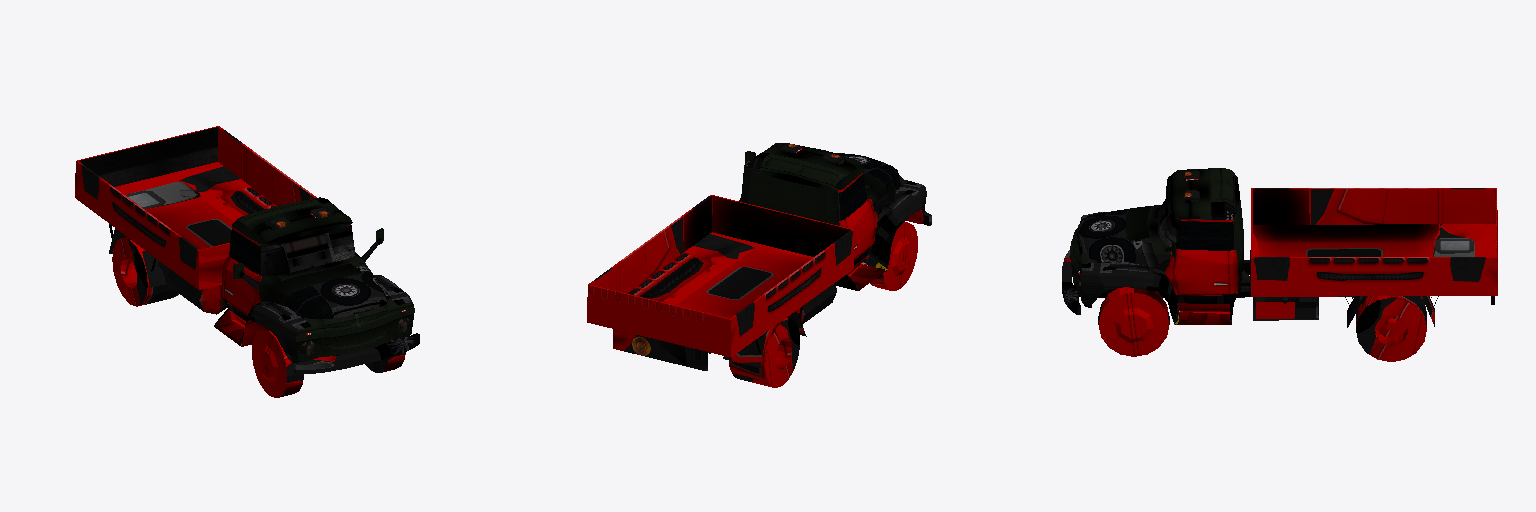
3 views of the same model, side by side, from view 1: azimuth 30°, elevation 25°; view 2: azimuth 150°, elevation 25°; view 3: azimuth 270°, elevation 25° (orthographic).
Parts seen in each view (by area): view 1: SmallTruck_1:SmallTruck_Tyre_F_R1; view 2: SmallTruck_1:SmallTruck_Tyre_F_R1; view 3: SmallTruck_1:SmallTruck_Tyre_F_R1.
Boxes of the visible parts, x1=… form: SmallTruck_1:SmallTruck_Tyre_F_R1: x1=75, y1=126, x2=419, y2=397; SmallTruck_1:SmallTruck_Tyre_F_R1: x1=587, y1=143, x2=931, y2=387; SmallTruck_1:SmallTruck_Tyre_F_R1: x1=1062, y1=168, x2=1497, y2=361.
Bounding box in the file's own units: 3.32 × 3.04 × 8.32.
1 materials, 1 textured.